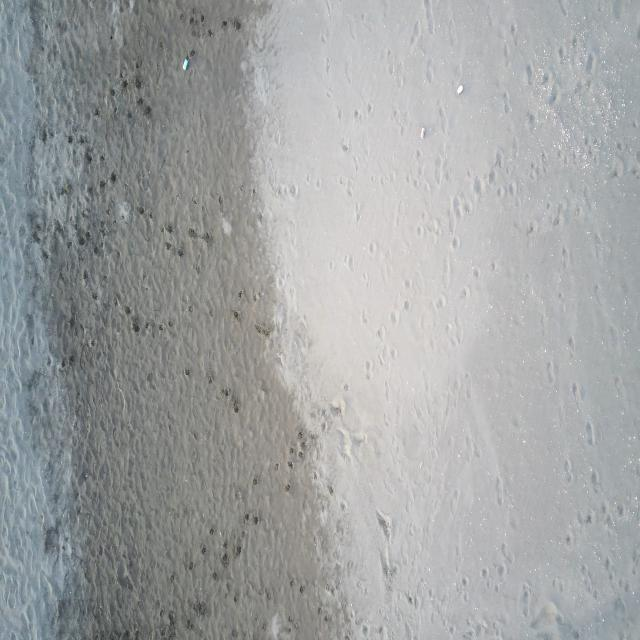Garbage: (181, 57, 188, 70), (456, 83, 463, 94), (420, 127, 424, 138)
